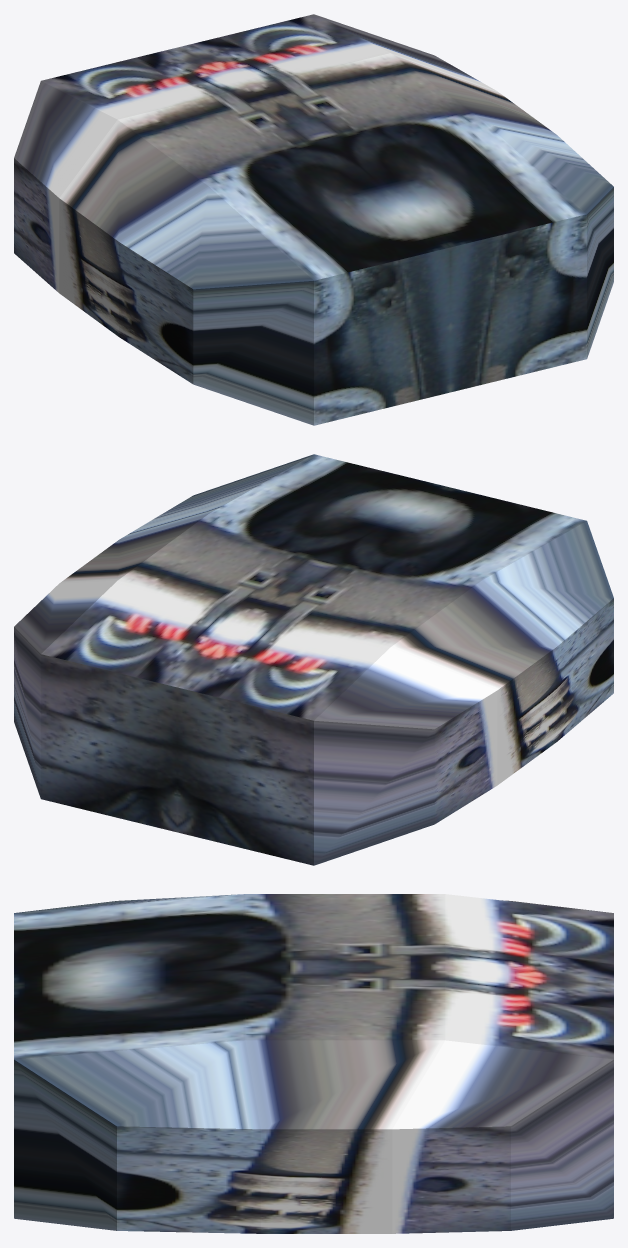
The picture shows the model from 3 angles, top to bottom: view 1: azimuth 30°, elevation 25°; view 2: azimuth 150°, elevation 25°; view 3: azimuth 270°, elevation 25°; orthographic projection. The views are drawn at different scales.
Visible parts, largest first — view 1: Body-1.001_Cube.012; view 2: Body-1.001_Cube.012; view 3: Body-1.001_Cube.012.
Boxes of the visible parts, x1,y1,x2,y2 form: Body-1.001_Cube.012: (14,14,613,425); Body-1.001_Cube.012: (14,454,613,865); Body-1.001_Cube.012: (14,894,613,1233).
Size of the model in its own units: 11.29 by 4.26 by 12.19.
